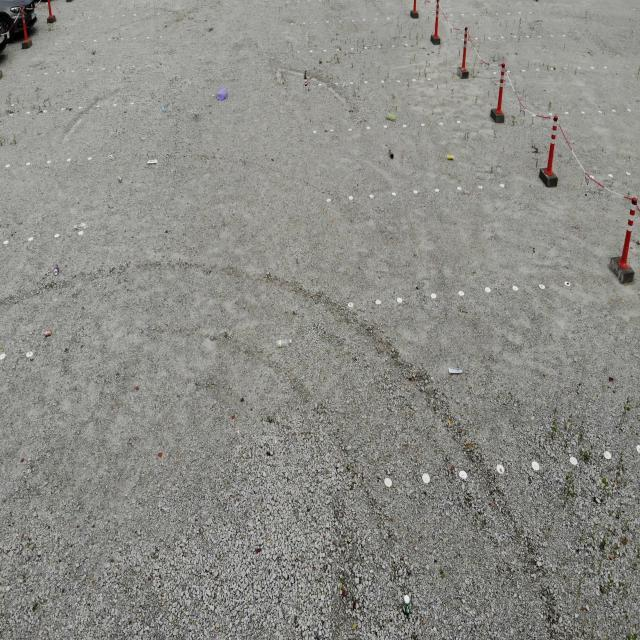rubbish: (214, 85, 228, 102), (401, 595, 410, 617), (276, 337, 293, 348), (147, 156, 158, 166), (384, 111, 396, 120), (449, 367, 463, 374), (44, 328, 53, 337), (444, 153, 454, 160), (389, 147, 394, 159), (54, 264, 58, 276), (303, 71, 306, 86), (162, 105, 166, 113)
